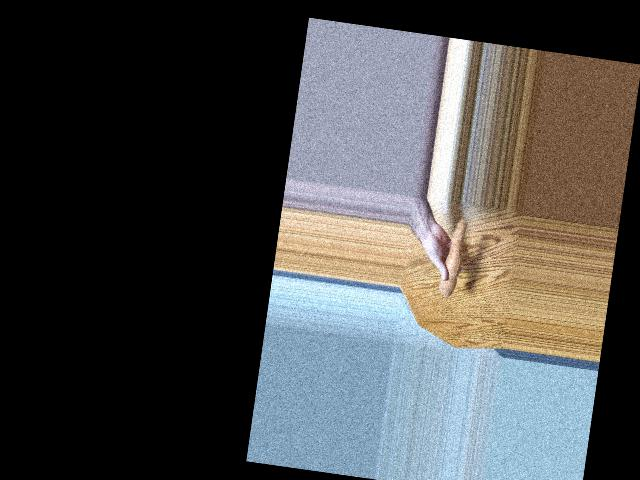sweet_potato: (440, 214, 469, 297)
